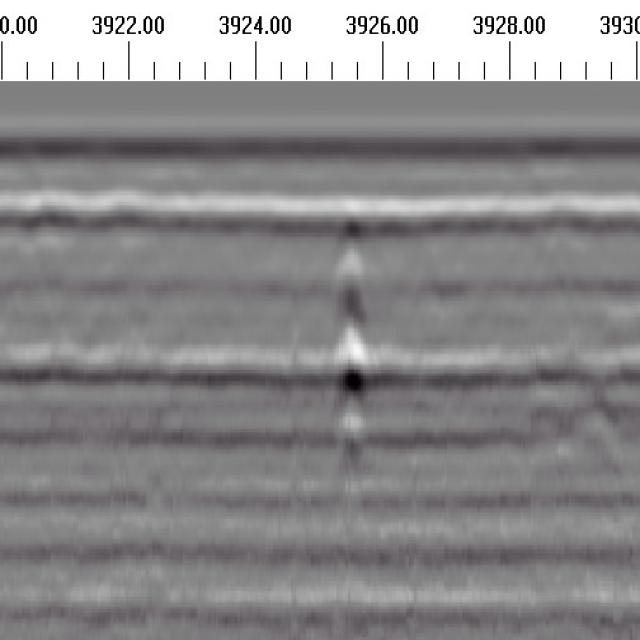crack: (331, 200, 374, 502)
